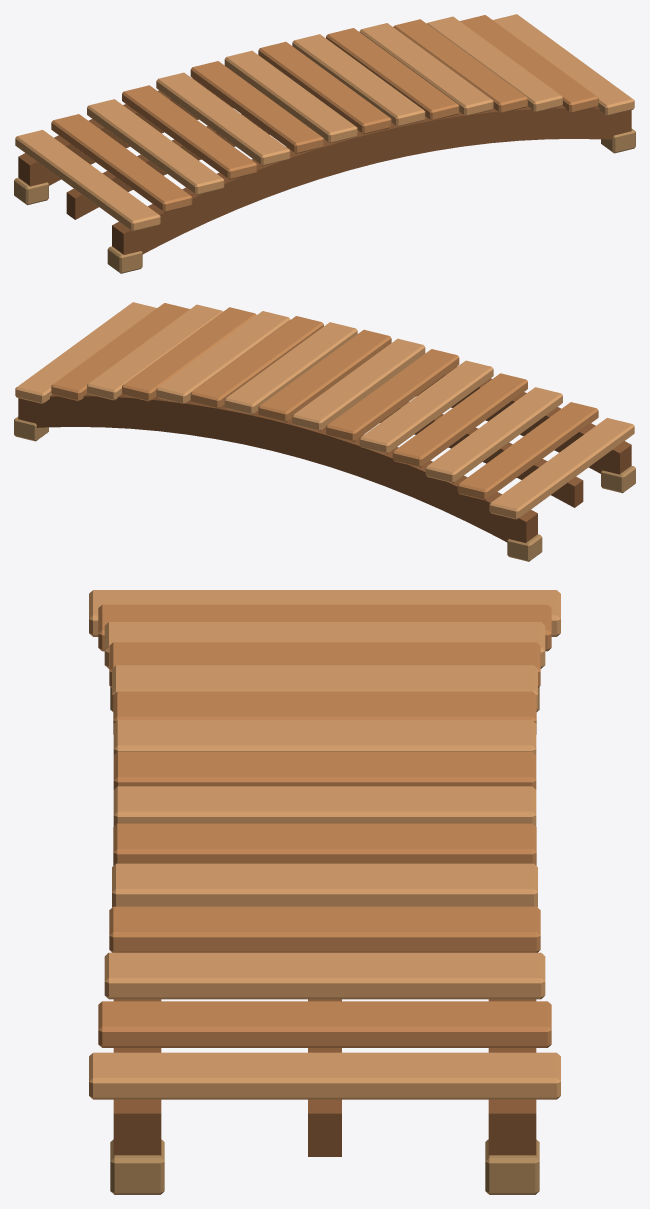
The model's file is ponte-piso.glb.
The picture shows the model from 3 angles, top to bottom: view 1: azimuth 30°, elevation 25°; view 2: azimuth 150°, elevation 25°; view 3: azimuth 270°, elevation 25°; orthographic projection. The views are drawn at different scales.
Visible parts, largest first — view 1: Piso; view 2: Piso; view 3: Piso.
Part boxes in pixels (bbox=[...]): Piso: bbox=[14, 14, 635, 273]; Piso: bbox=[14, 302, 635, 561]; Piso: bbox=[89, 590, 560, 1194].
Size of the model in its own units: 3.52 by 0.5852 by 1.39.
